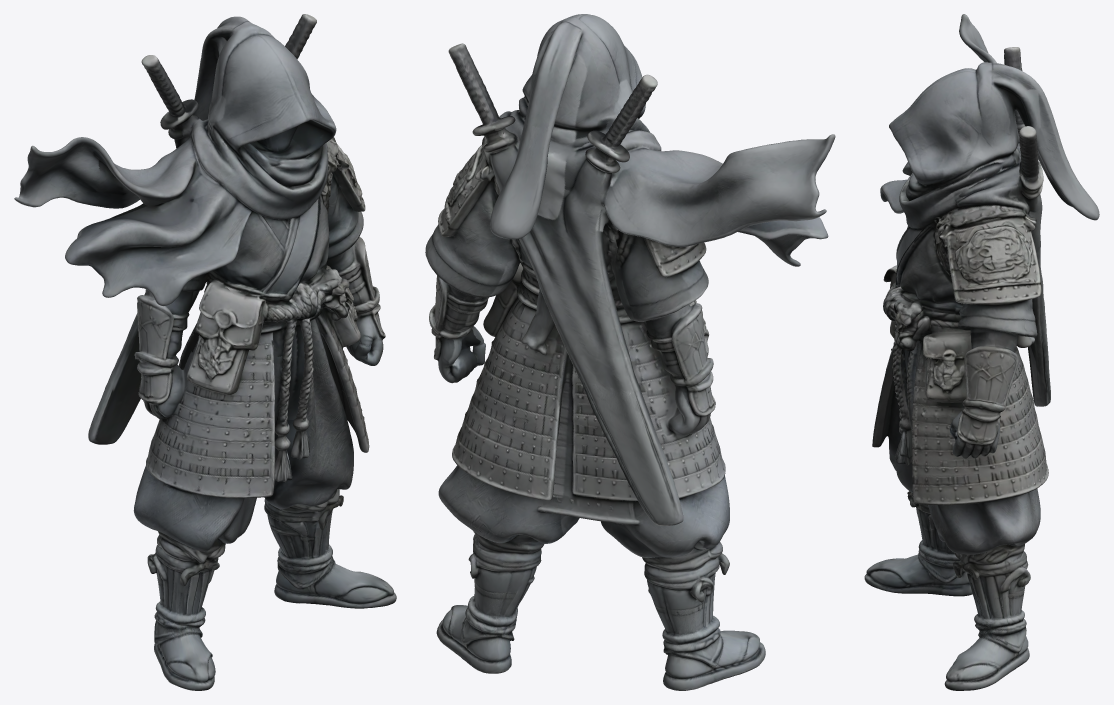
File: bishop.glb
The picture shows the model from 3 angles, left to right: view 1: azimuth 30°, elevation 25°; view 2: azimuth 150°, elevation 25°; view 3: azimuth 270°, elevation 25°; orthographic projection. The views are drawn at different scales.
Parts seen in each view (by area): view 1: tmp0u1hdaffobj; view 2: tmp0u1hdaffobj; view 3: tmp0u1hdaffobj.
Boxes of the visible parts, x1,y1,x2,y2 form: tmp0u1hdaffobj: (14, 14, 396, 690); tmp0u1hdaffobj: (425, 14, 835, 690); tmp0u1hdaffobj: (864, 14, 1099, 690).
Bounding box in the file's own units: 0.6405 × 1 × 0.3752.
Materials: 1 (1 with a texture image).
